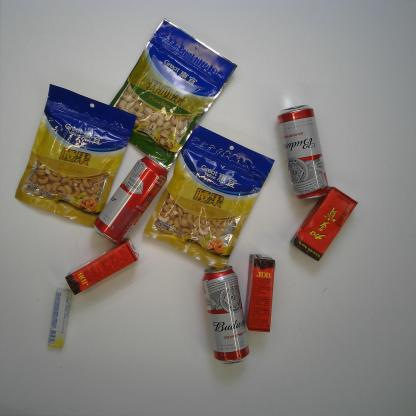Alcohol: (94, 156, 170, 246), (202, 264, 251, 366), (277, 104, 329, 200)
Candy: (48, 288, 72, 348)
Dried Fruit: (107, 17, 238, 172), (142, 124, 276, 270), (14, 84, 138, 229)
Drink: (290, 186, 358, 263), (64, 238, 139, 296), (244, 253, 276, 333)
